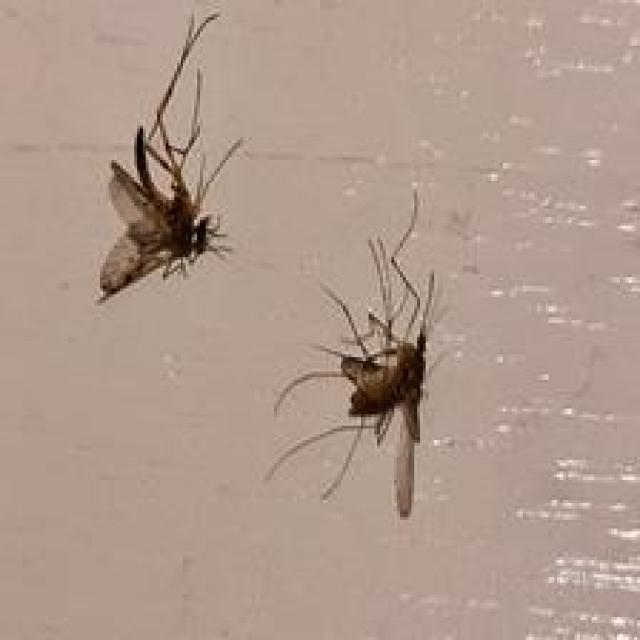Culex: (263, 189, 440, 520)
